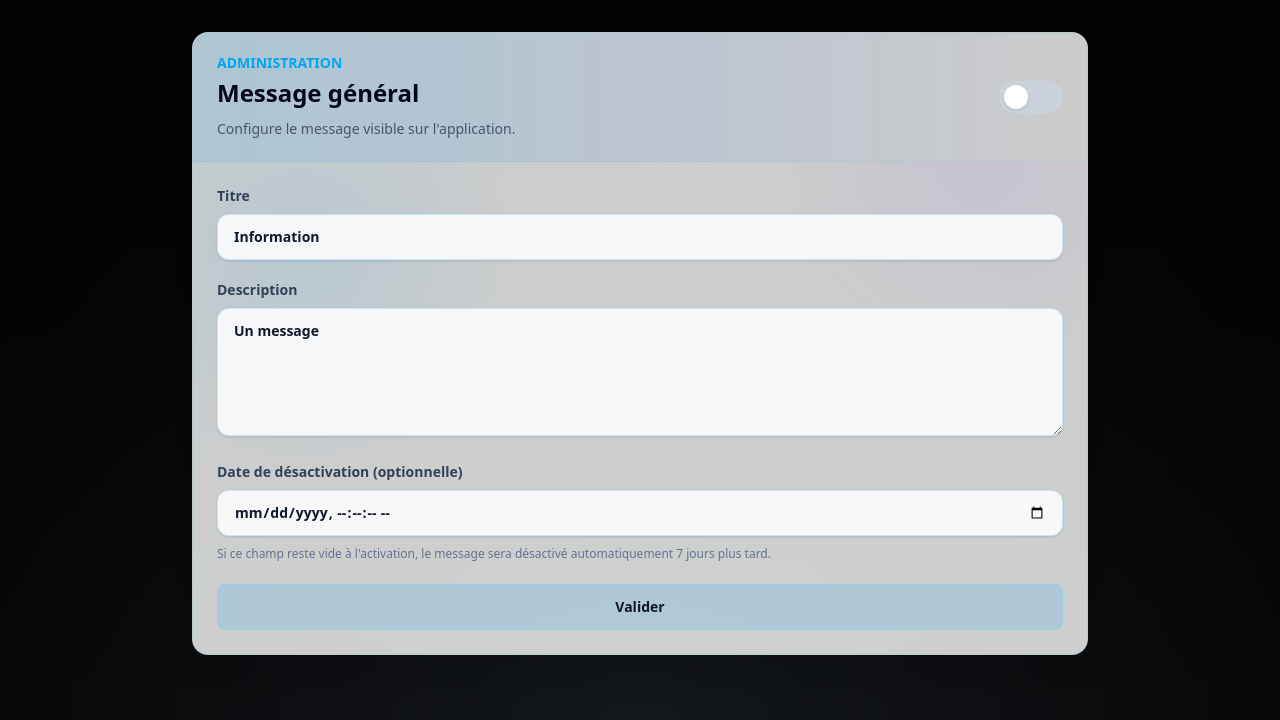
it: AdminMessageSettings › laisse le serveur appliquer les 7 jours quand la date est vide
The width and height of the screenshot is (1280, 720).
Click the button named "Activer le message général" at (1031, 97), box [999,81,1063,113]
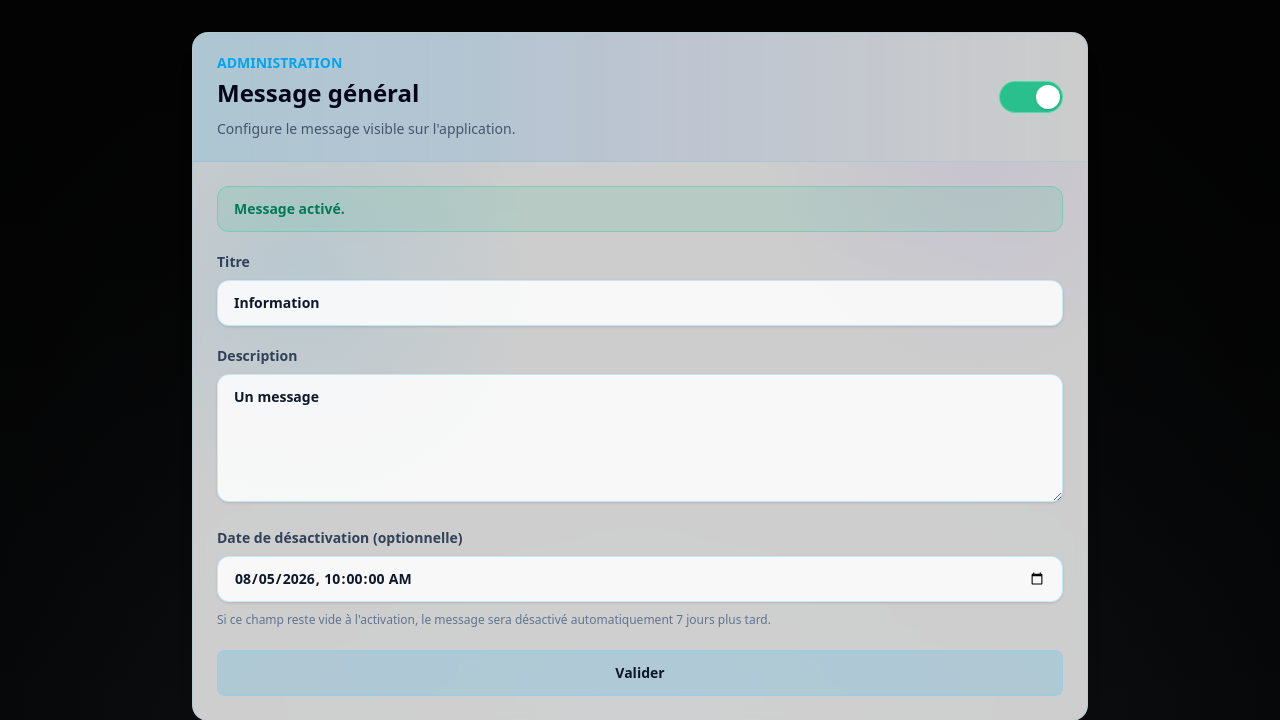
Check: the text "Message activé." is shown, box [217,186,1063,232]
